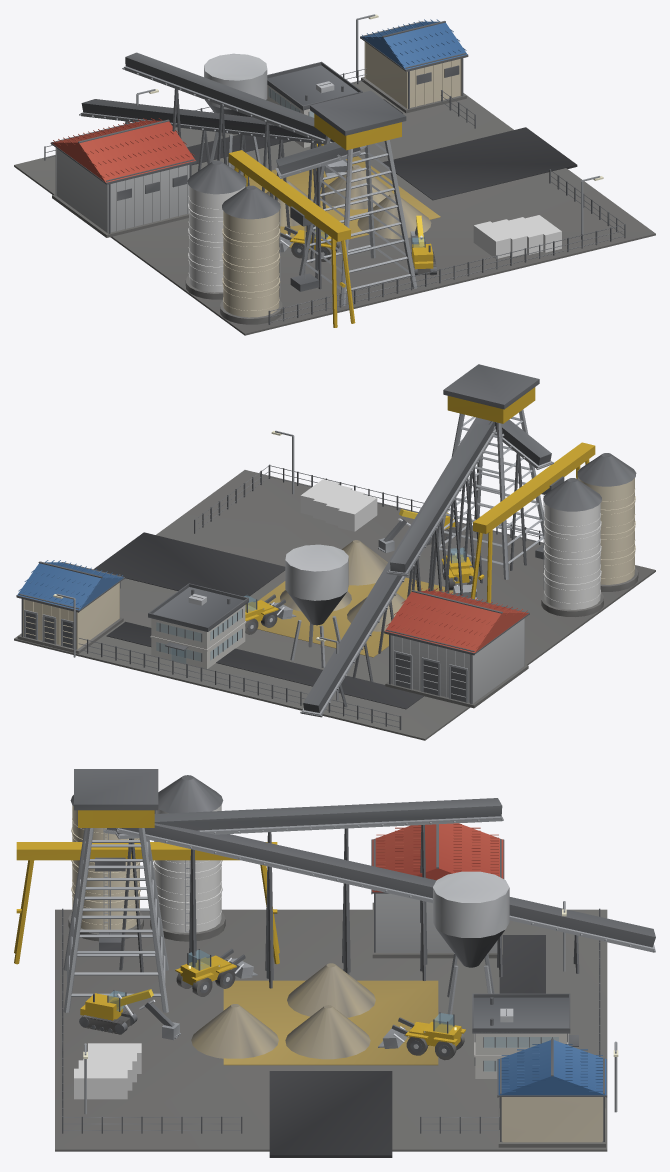
Rendered from Depot_P2.fbx.
The picture shows the model from 3 angles, top to bottom: view 1: azimuth 30°, elevation 25°; view 2: azimuth 150°, elevation 25°; view 3: azimuth 270°, elevation 25°; orthographic projection. The views are drawn at different scales.
Parts seen in each view (by area): view 1: Depot.Yard, Depot.Shed1, Depot.Tower, Depot.Shed2, Depot.Silo0, Depot.ConvA, Depot.Silo1, Depot.ConvMain, Depot.Gantry, Depot.Office, Depot.Fence, Depot.Containers (+6 smaller); view 2: Depot.Yard, Depot.Shed1, Depot.Silo1, Depot.Shed2, Depot.Tower, Depot.Office, Depot.ConvMain, Depot.ConvA, Depot.Silo0, Depot.Hopper, Depot.Gantry, Depot.Fence (+7 smaller); view 3: Depot.Yard, Depot.ConvMain, Depot.Tower, Depot.Shed2, Depot.Shed1, Depot.ConvA, Depot.Silo1, Depot.Hopper, Depot.Office, Depot.Gantry, Depot.Silo0, Depot.Containers (+8 smaller).
Boxes of the visible parts, left/top/right/bottom form: Depot.Yard: left=14, top=80, right=655, bottom=335; Depot.Shed1: left=50, top=118, right=196, bottom=237; Depot.Tower: left=299, top=90, right=417, bottom=306; Depot.Shed2: left=360, top=19, right=468, bottom=113; Depot.Silo0: left=220, top=185, right=282, bottom=324; Depot.ConvA: left=122, top=52, right=366, bottom=260; Depot.Silo1: left=185, top=160, right=246, bottom=299; Depot.ConvMain: left=79, top=99, right=327, bottom=262; Depot.Gantry: left=228, top=150, right=355, bottom=327; Depot.Office: left=266, top=61, right=362, bottom=147; Depot.Fence: left=44, top=68, right=625, bottom=324; Depot.Containers: left=473, top=215, right=561, bottom=258; Depot.Yard: left=14, top=470, right=655, bottom=740; Depot.Shed1: left=384, top=588, right=529, bottom=708; Depot.Silo1: left=541, top=478, right=603, bottom=616; Depot.Shed2: left=16, top=560, right=124, bottom=653; Depot.Tower: left=433, top=364, right=544, bottom=579; Depot.Office: left=148, top=583, right=248, bottom=668; Depot.ConvMain: left=300, top=417, right=495, bottom=717; Depot.ConvA: left=386, top=421, right=496, bottom=596; Depot.Silo0: left=577, top=453, right=638, bottom=591; Depot.Hopper: left=285, top=544, right=348, bottom=667; Depot.Gantry: left=470, top=442, right=595, bottom=602; Depot.Fence: left=78, top=464, right=543, bottom=729; Depot.Yard: left=55, top=909, right=607, bottom=1157; Depot.ConvMain: left=115, top=823, right=655, bottom=992; Depot.Tower: left=63, top=769, right=168, bottom=1012; Depot.Shed2: left=497, top=1038, right=607, bottom=1147; Depot.Shed1: left=371, top=823, right=504, bottom=958; Depot.ConvA: left=115, top=798, right=503, bottom=980; Depot.Silo1: left=150, top=775, right=225, bottom=941; Depot.Hopper: left=433, top=871, right=509, bottom=1015; Depot.Office: left=472, top=993, right=578, bottom=1078; Depot.Gantry: left=14, top=842, right=279, bottom=964; Depot.Silo0: left=68, top=795, right=143, bottom=941; Depot.Containers: left=74, top=1043, right=141, bottom=1099.
Size of the model in its own units: 7717 by 2966 by 8370.
